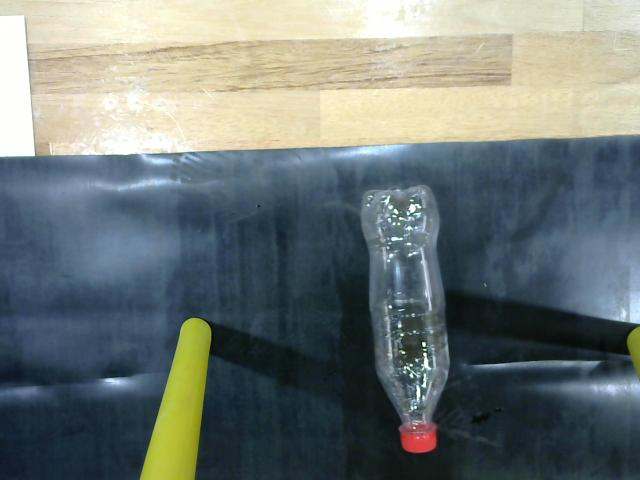bottle: (354, 170, 461, 456)
